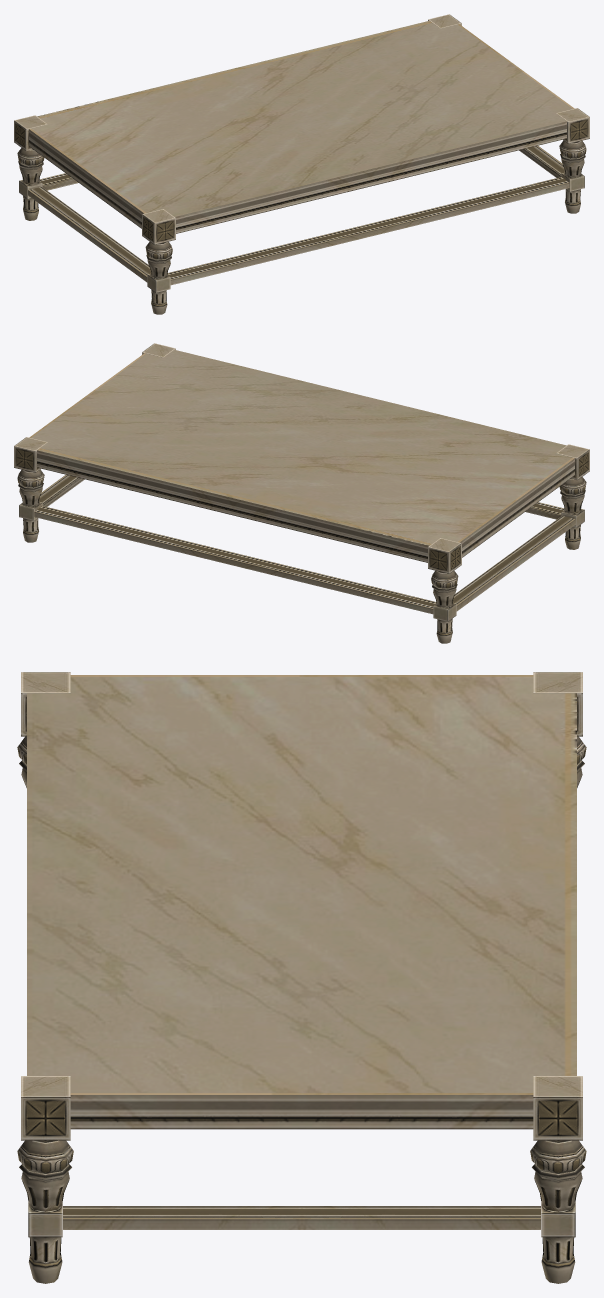
File: Desk03.FBX
The picture shows the model from 3 angles, top to bottom: view 1: azimuth 30°, elevation 25°; view 2: azimuth 150°, elevation 25°; view 3: azimuth 270°, elevation 25°; orthographic projection. The views are drawn at different scales.
Visible parts, largest first — view 1: Desk03; view 2: Desk03; view 3: Desk03.
Boxes of the visible parts, box(x1,y1,x2,y2) form: Desk03: box(14, 14, 589, 314); Desk03: box(14, 343, 589, 643); Desk03: box(17, 672, 586, 1283).
Bounding box in the file's own units: 199 × 41.62 × 112.
